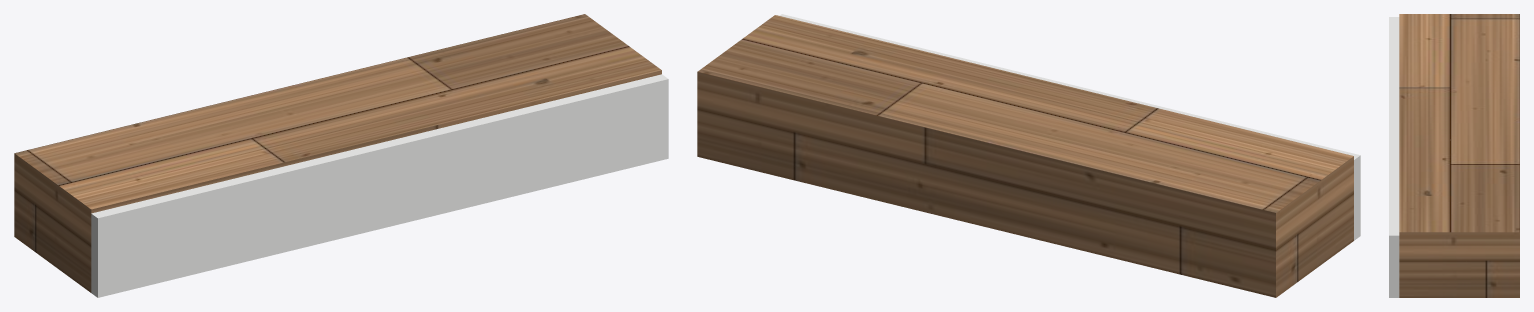
File: porch_steps.glb
3 renders of one model, left to right at view 1: azimuth 30°, elevation 25°; view 2: azimuth 150°, elevation 25°; view 3: azimuth 270°, elevation 25°, orthographic. The views are drawn at different scales.
Parts seen in each view (by area): view 1: porch_steps_deck, porch_steps_trim; view 2: porch_steps_deck, porch_steps_trim; view 3: porch_steps_deck, porch_steps_trim.
Part boxes in pixels (left/top/right/bottom): porch_steps_deck: left=14, top=14, right=661, bottom=292; porch_steps_trim: left=91, top=74, right=668, bottom=297; porch_steps_deck: left=697, top=15, right=1353, bottom=297; porch_steps_trim: left=779, top=14, right=1360, bottom=240; porch_steps_deck: left=1399, top=14, right=1519, bottom=297; porch_steps_trim: left=1389, top=17, right=1399, bottom=297.
Size of the model in its own units: 1.5 by 0.21 by 0.38.
2 materials, 1 textured.
